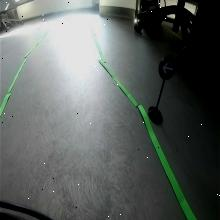left: (159, 55, 177, 82)
